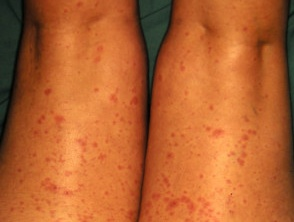SJS-TEN: (136, 0, 294, 222), (0, 0, 152, 222)
